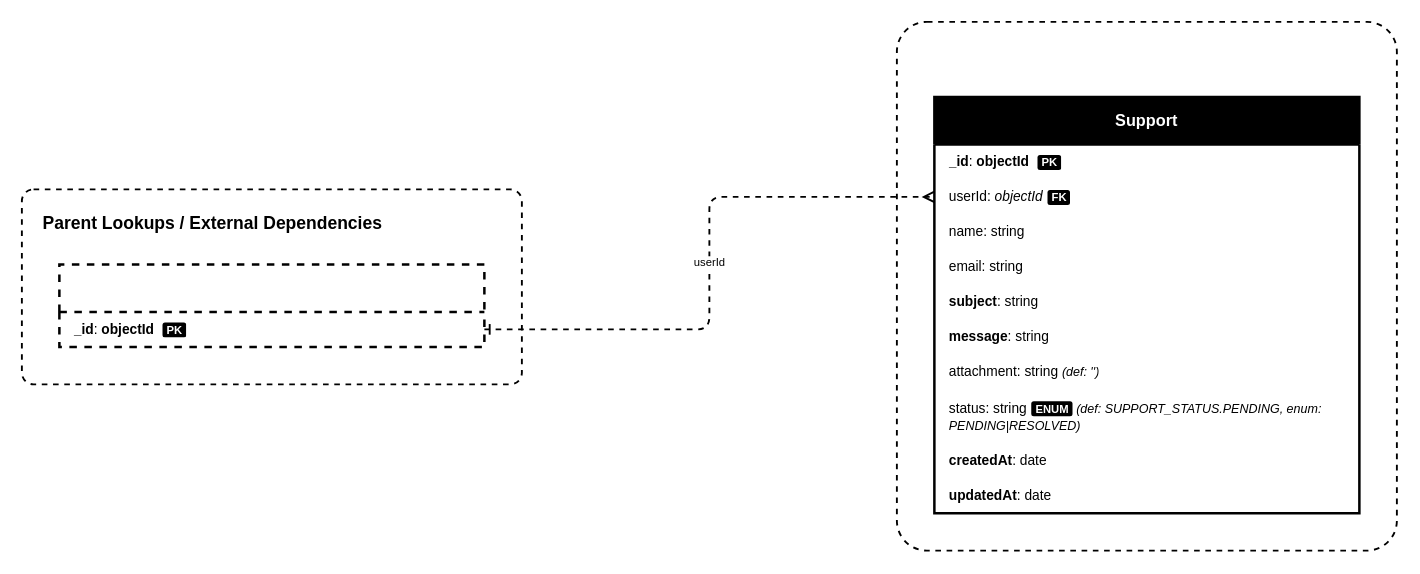
Image size: 1420x574. Some labels were removed from this diagram. The box of each missing label's shape, as (x1, y1, x2, y2) in pixels:
Core Module: Support: (895, 20, 1397, 551)
User: (58, 262, 485, 348)
